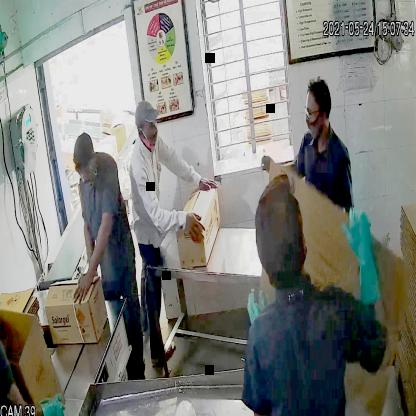goggles: (303, 102, 328, 122)
no_goggles: (135, 118, 159, 135)
